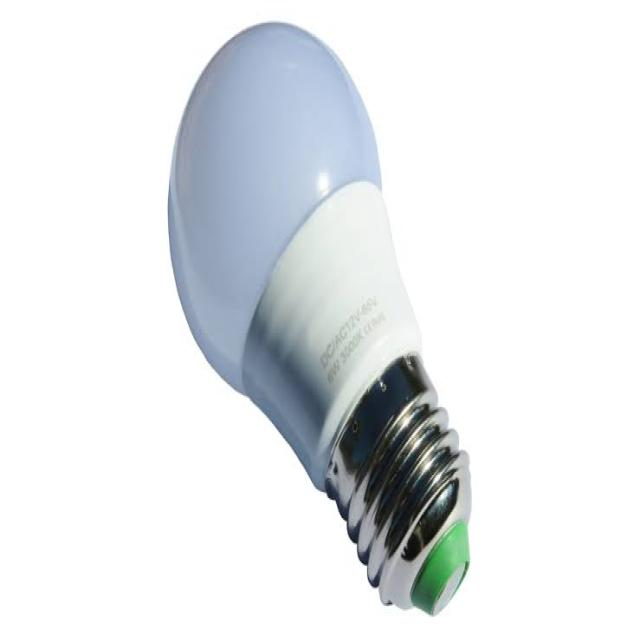bulb: (160, 19, 487, 640)
